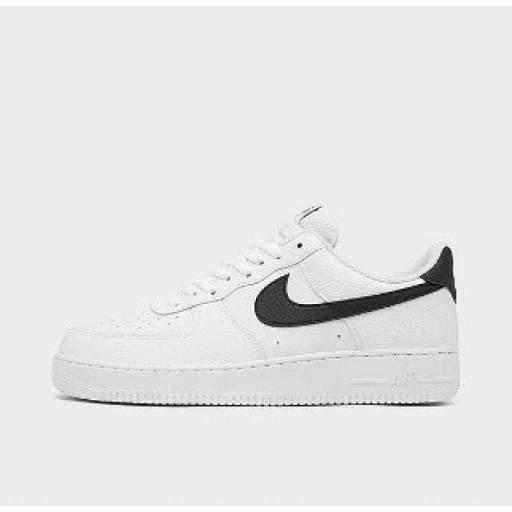Nike: (248, 272, 431, 330)
